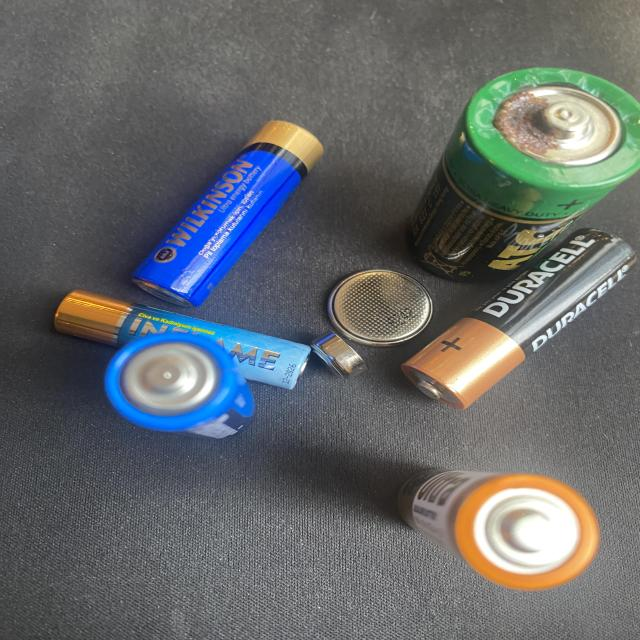AA: (392, 429, 606, 614), (130, 119, 324, 308)
